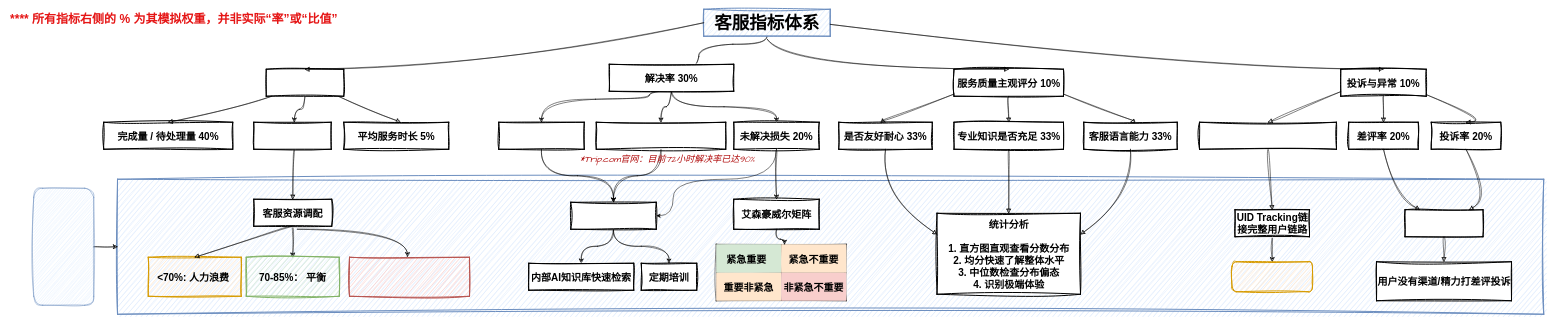
The diagram is 1553 pixels wide and 323 high, and some of its shapes have lost their labels. The shapes that lost their labels are listed below. From the top down, each one's box as (x1, y1, x2, y2) in pixels, then its label:
(266, 68, 344, 96): 人效指标 40%
(253, 122, 332, 150): Utilization 50%
(498, 122, 584, 150): 首问解决率 50%
(596, 122, 726, 150): 24/48/72小时内解决率 30%
(1199, 122, 1337, 150): 重复来电率/跨渠道联系率 60%
(570, 202, 656, 230): 复盘 & 提高
(1404, 209, 1483, 237): 合理设计指标权重
(33, 188, 94, 305): 衍生分析
(349, 256, 470, 296): >90%: 人力紧张，影响服务质量和员工满意度
(1231, 261, 1313, 292): 利用SHAP模型进行复杂归因
